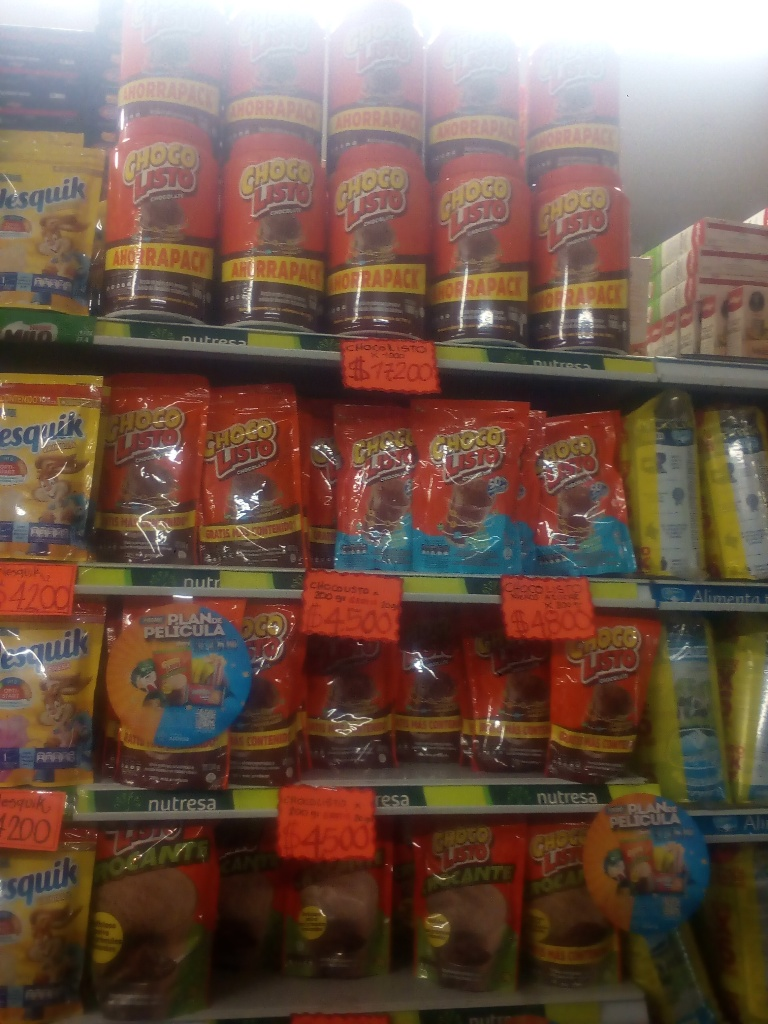COL0170102DYP50000: (94, 828, 225, 1024)
COL0170103TRR00100: (115, 5, 218, 135)
COL0170104DYP20000: (312, 403, 407, 570)
COL0170306DYP20000: (0, 124, 109, 316)
